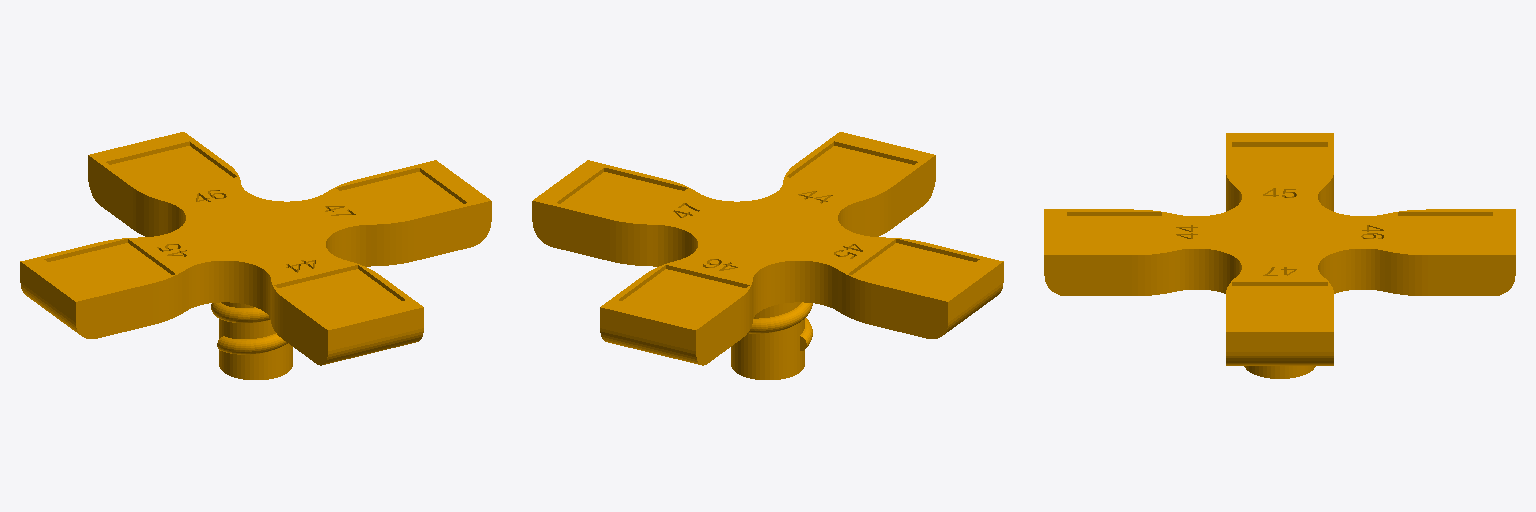
The robot description file, URDF, robot "round_table_base":
<?xml version="1.0"?>
<robot name="round_table_base">
    <link name="round_table_base">
        <visual>
            <geometry>
                <mesh filename="../mesh/round_table/round_table_base.obj" scale="1 1 1"/>
            </geometry>
        </visual>
        <collision>
            <geometry>
                <mesh filename="../mesh/round_table/round_table_base.obj" scale="1 1 1"/>
            </geometry>
            <sdf resolution="512"/>
        </collision>
        <!-- <inertial>
            <mass value="1."/>
            <inertia ixx="0.0001" ixy="0.0" ixz="0.0" iyy="0.0001" iyz="0.0" izz="0.0001"/>
        </inertial> -->
    </link>
</robot>

--- What the picture shows (computed from the rendered views, not written in the file) ---
3 views of the same robot in one strip: view 1: azimuth 30°, elevation 25°; view 2: azimuth 150°, elevation 25°; view 3: azimuth 270°, elevation 25° (orthographic).
Robot: round_table_base — 1 links, 0 joints (none); root link round_table_base; default pose: every joint at zero.
Visible links, largest first — view 1: round_table_base; view 2: round_table_base; view 3: round_table_base.
Link boxes in pixels (box(x1,y1,x2,y2)): round_table_base: box(20, 132, 491, 379); round_table_base: box(532, 132, 1003, 379); round_table_base: box(1044, 133, 1515, 378).
Size in the robot's own frame: 0.13 by 0.13 by 0.04 metres.
Meshes: 1 distinct files referenced, 1 mesh visuals loaded (1 OBJ).